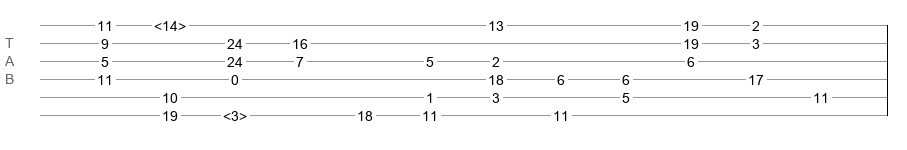0: (231, 72, 239, 82)
1: (426, 90, 434, 100)
10: (162, 90, 178, 100)
11: (97, 18, 113, 28), (97, 72, 113, 82), (422, 108, 438, 118), (553, 108, 569, 118), (813, 90, 829, 100)
13: (488, 18, 504, 28)
16: (292, 36, 308, 46)
17: (748, 72, 764, 82)
18: (357, 108, 373, 118), (488, 72, 504, 82)
19: (162, 108, 178, 118), (683, 36, 699, 46), (683, 18, 699, 28)
2: (492, 54, 500, 64), (752, 18, 760, 28)
24: (227, 36, 243, 46), (227, 54, 243, 64)
3: (492, 90, 500, 100), (752, 36, 760, 46)
5: (101, 54, 109, 64), (426, 54, 434, 64), (622, 90, 630, 100)
6: (557, 72, 565, 82), (622, 72, 630, 82), (687, 54, 695, 64)
7: (296, 54, 304, 64)
9: (101, 36, 109, 46)
harmonic: (154, 18, 186, 28), (223, 108, 247, 118)
